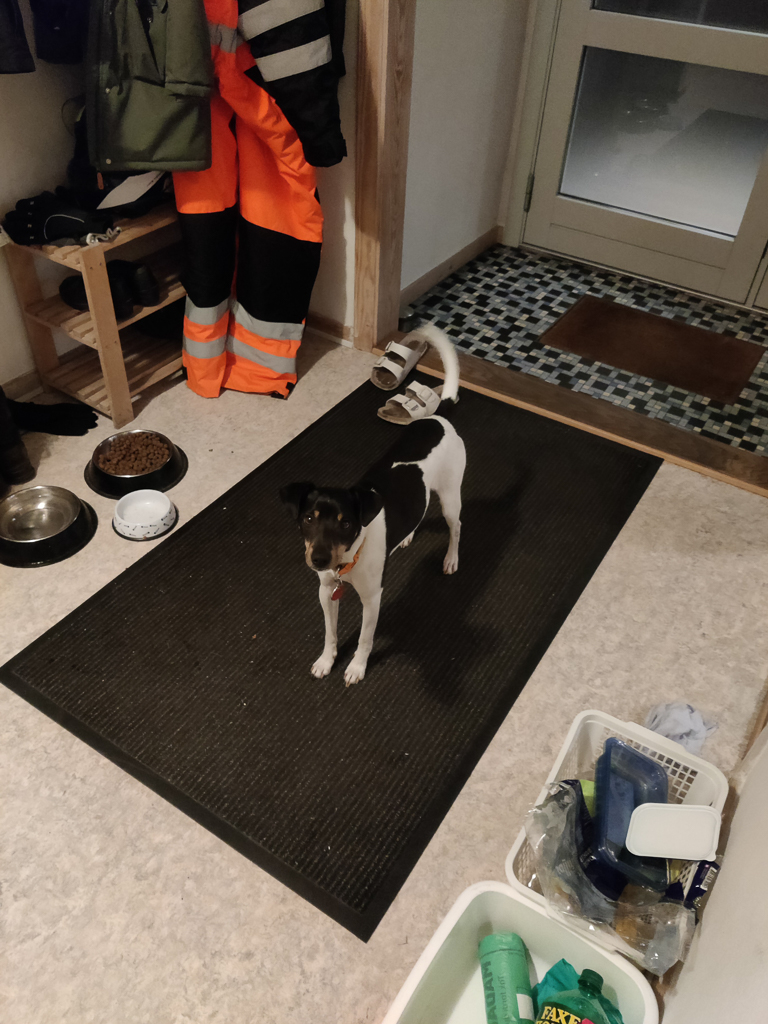Dog: (256, 316, 480, 703)
